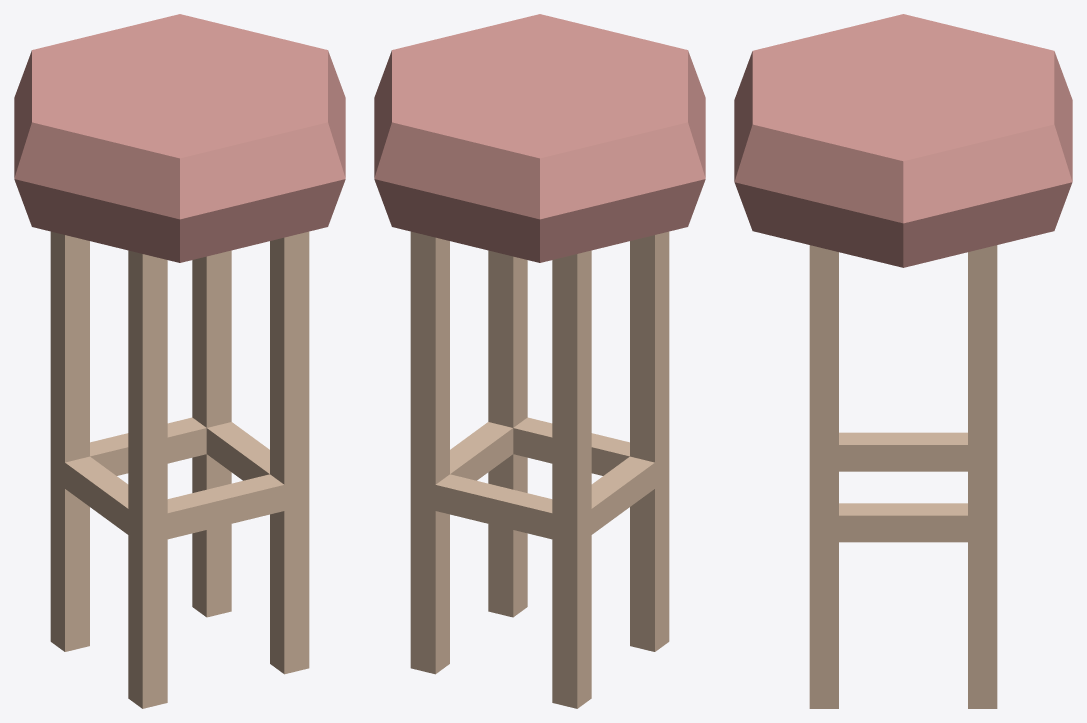
The model's file is stool_bar.glb.
3 renders of one model, left to right at view 1: azimuth 30°, elevation 25°; view 2: azimuth 150°, elevation 25°; view 3: azimuth 270°, elevation 25°, orthographic.
Parts seen in each view (by area): view 1: stoolBar(Clone); view 2: stoolBar(Clone); view 3: stoolBar(Clone).
Part boxes in pixels (<box>): stoolBar(Clone): <box>14,14,345,708</box>; stoolBar(Clone): <box>374,14,705,708</box>; stoolBar(Clone): <box>734,14,1072,708</box>.
Size of the model in its own units: 0.5574 by 0.9135 by 0.4827.
